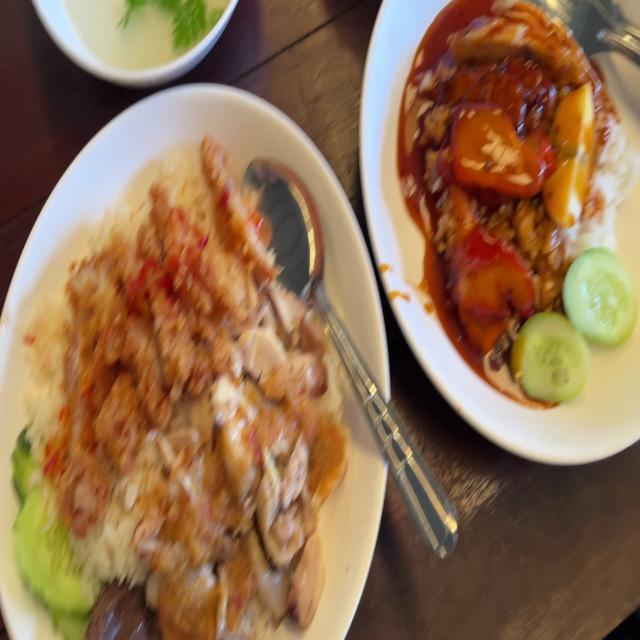boiled_chicken: (160, 288, 330, 640)
boiled_chicken_blood_jelly: (84, 576, 153, 640)
boiled_egg: (548, 84, 600, 228)
chainese_sausage: (453, 57, 549, 131)
chicken_rice: (13, 133, 351, 640)
crispy_pork: (445, 0, 593, 78)
cucumber: (14, 424, 98, 640), (566, 248, 636, 346), (518, 312, 590, 398)
fried_chicken: (50, 136, 275, 534)
red_pork: (446, 221, 532, 353), (451, 104, 554, 196)
red_pork_and_crispy_pork: (406, 0, 640, 408)
